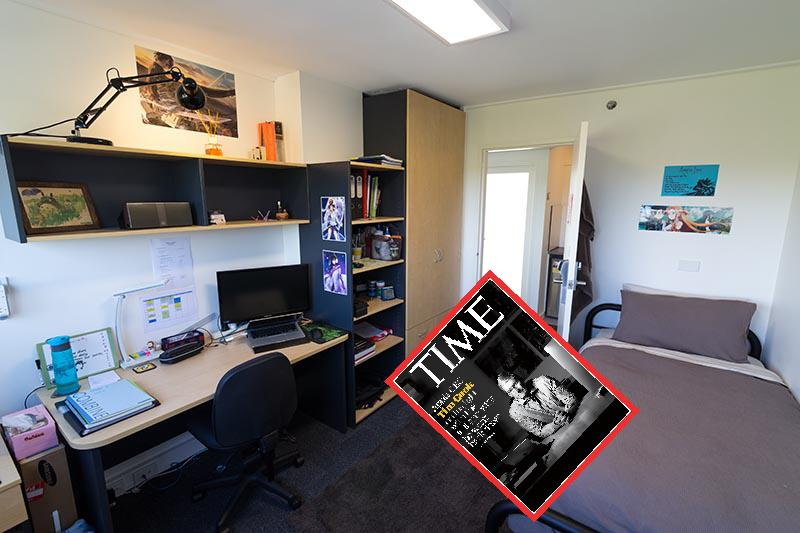times: (382, 264, 641, 519)
